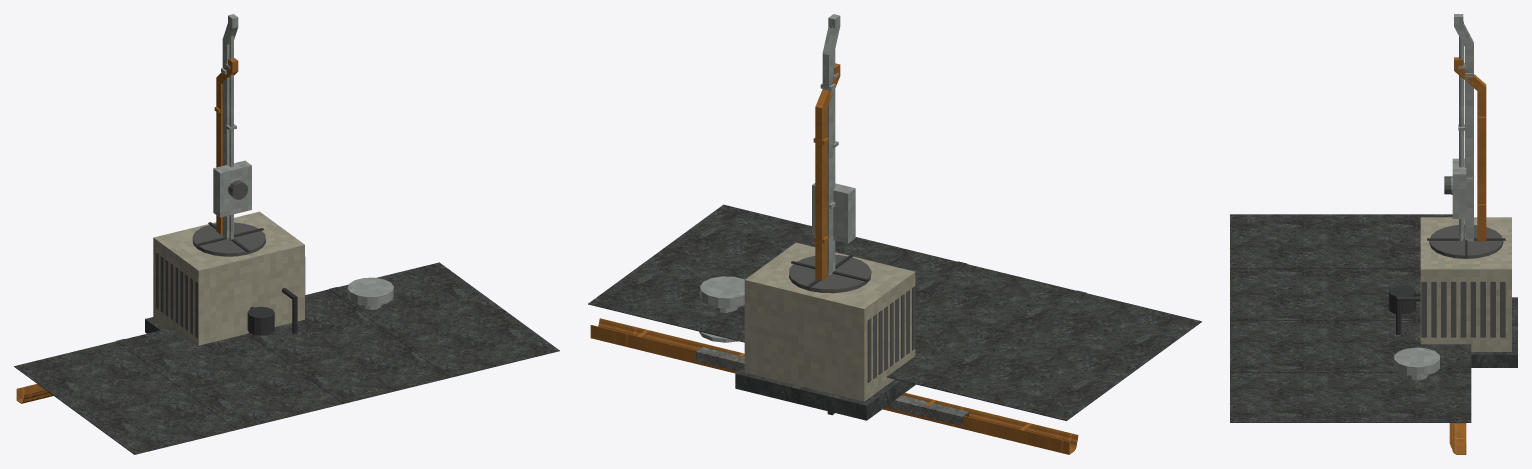
The model's file is exterior_kit.glb.
The picture shows the model from 3 angles, left to right: view 1: azimuth 30°, elevation 25°; view 2: azimuth 150°, elevation 25°; view 3: azimuth 270°, elevation 25°; orthographic projection. The views are drawn at different scales.
Parts seen in each view (by area): view 1: P_canopy_membrane, P_rooftop_unit, P_meter, P_downspout_rear, P_roof_vents, P_downspout_front, P_sign_flood; view 2: P_canopy_membrane, P_rooftop_unit, P_gutter_ochre, P_downspout_front, P_downspout_rear, P_window_sill, P_meter, P_roof_vents; view 3: P_canopy_membrane, P_rooftop_unit, P_downspout_rear, P_downspout_front, P_meter, P_roof_vents, P_sign_flood, P_gutter_ochre.
Boxes of the visible parts, x1,y1,x2,y2 form: P_canopy_membrane: [14, 262, 559, 454]; P_rooftop_unit: [145, 211, 305, 345]; P_meter: [213, 35, 251, 240]; P_downspout_rear: [221, 14, 238, 238]; P_roof_vents: [347, 277, 393, 310]; P_downspout_front: [214, 58, 238, 234]; P_sign_flood: [247, 306, 274, 335]; P_canopy_membrane: [588, 204, 1201, 420]; P_rooftop_unit: [735, 242, 915, 420]; P_gutter_ochre: [590, 318, 1078, 454]; P_downspout_front: [813, 63, 840, 280]; P_downspout_rear: [820, 14, 840, 275]; P_window_sill: [696, 347, 968, 425]; P_meter: [812, 25, 855, 270]; P_roof_vents: [699, 276, 744, 342]; P_canopy_membrane: [1230, 214, 1471, 422]; P_rooftop_unit: [1396, 217, 1517, 367]; P_downspout_rear: [1454, 14, 1473, 241]; P_downspout_front: [1454, 57, 1486, 241]; P_meter: [1444, 21, 1466, 240]; P_roof_vents: [1394, 347, 1439, 380]; P_sign_flood: [1388, 285, 1420, 314]; P_gutter_ochre: [1449, 423, 1466, 454].
Bounding box in the file's own units: 4 × 3.15 × 2.34.
Materials: 14 (10 with a texture image).
